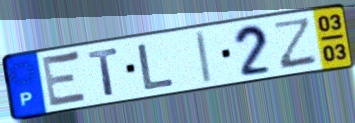2: (232, 20, 278, 81)
E: (40, 49, 91, 110)
I: (193, 29, 214, 86)
L: (136, 41, 177, 92)
T: (86, 45, 121, 98)
Z: (273, 15, 319, 71)
